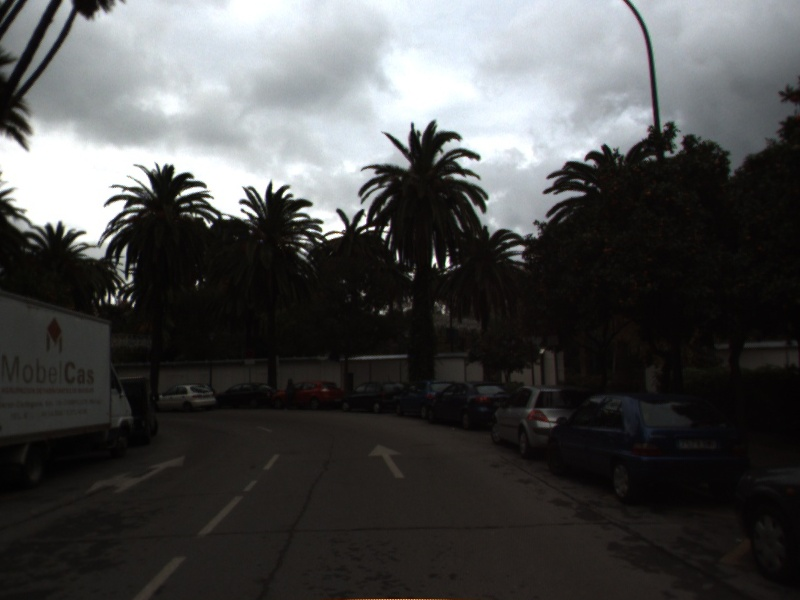STRAIGHT: (366, 442, 406, 480)
STRAIGHT_LEFT: (82, 453, 188, 496)
